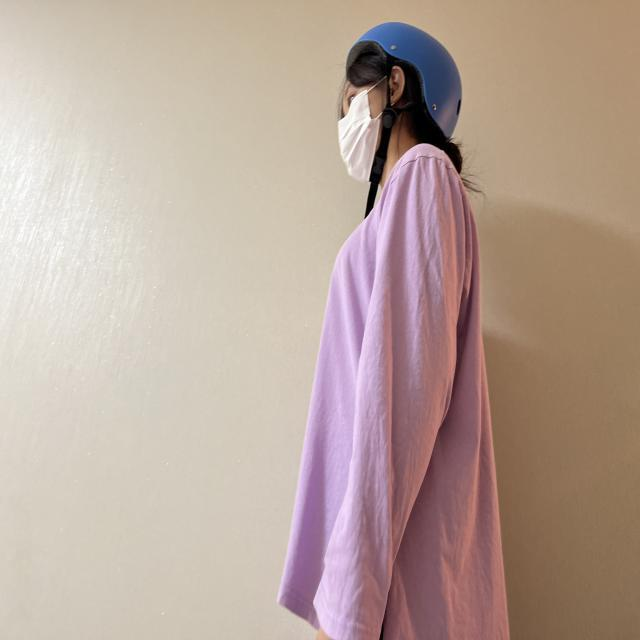Helmet: (329, 11, 483, 196)
